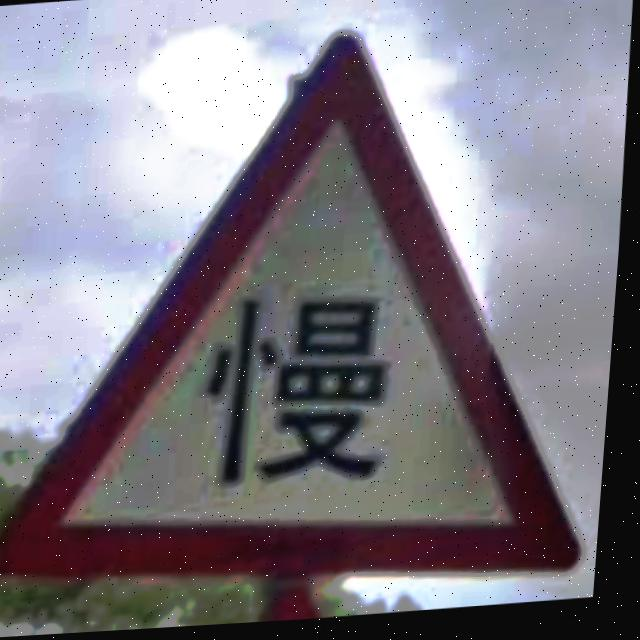slow: (0, 39, 595, 579)
